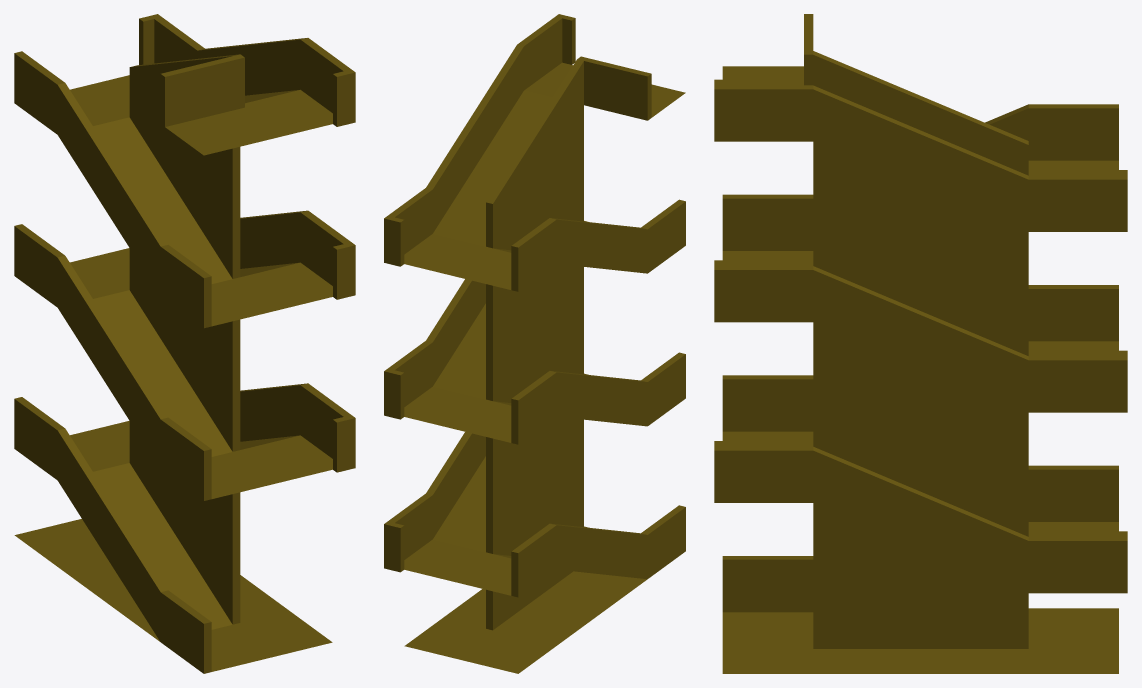
Rendered from Stairs103.fbx.
3 views of the same model, side by side, from view 1: azimuth 30°, elevation 25°; view 2: azimuth 150°, elevation 25°; view 3: azimuth 270°, elevation 25° (orthographic). The views are drawn at different scales.
Parts seen in each view (by area): view 1: Cube.001; view 2: Cube.001; view 3: Cube.001.
Part boxes in pixels (bbox=[...]): Cube.001: bbox=[14, 14, 355, 673]; Cube.001: bbox=[384, 14, 685, 673]; Cube.001: bbox=[714, 14, 1127, 673].
Size of the model in its own units: 411 by 1513 by 955.
